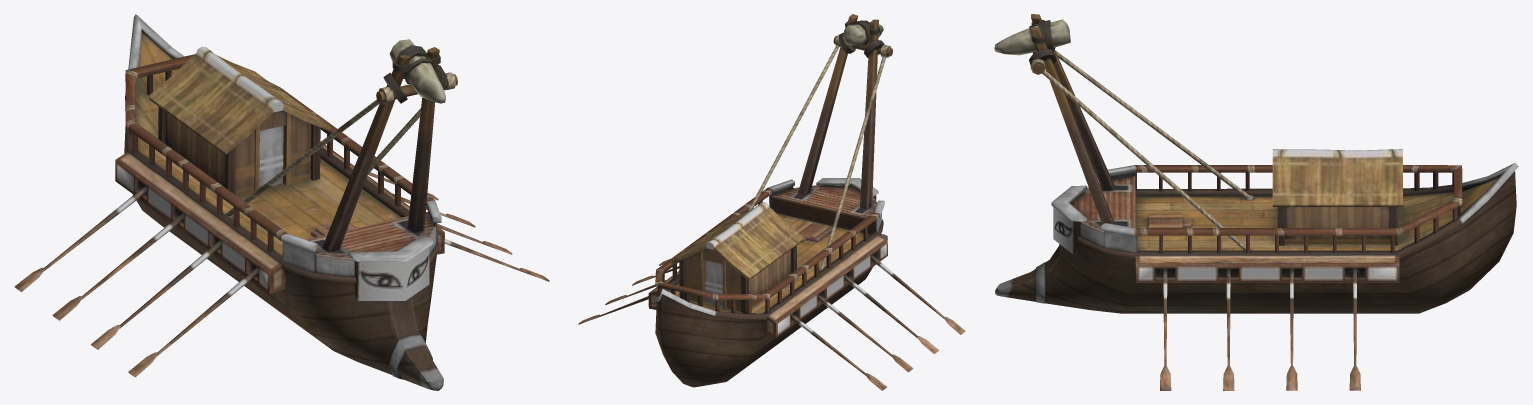
File: body-base.glb
3 renders of one model, left to right at view 1: azimuth 30°, elevation 25°; view 2: azimuth 150°, elevation 25°; view 3: azimuth 270°, elevation 25°, orthographic. The views are drawn at different scales.
Bounding box in the file's own units: 4.2 × 3.27 × 5.33.
1 material, 1 textured.
